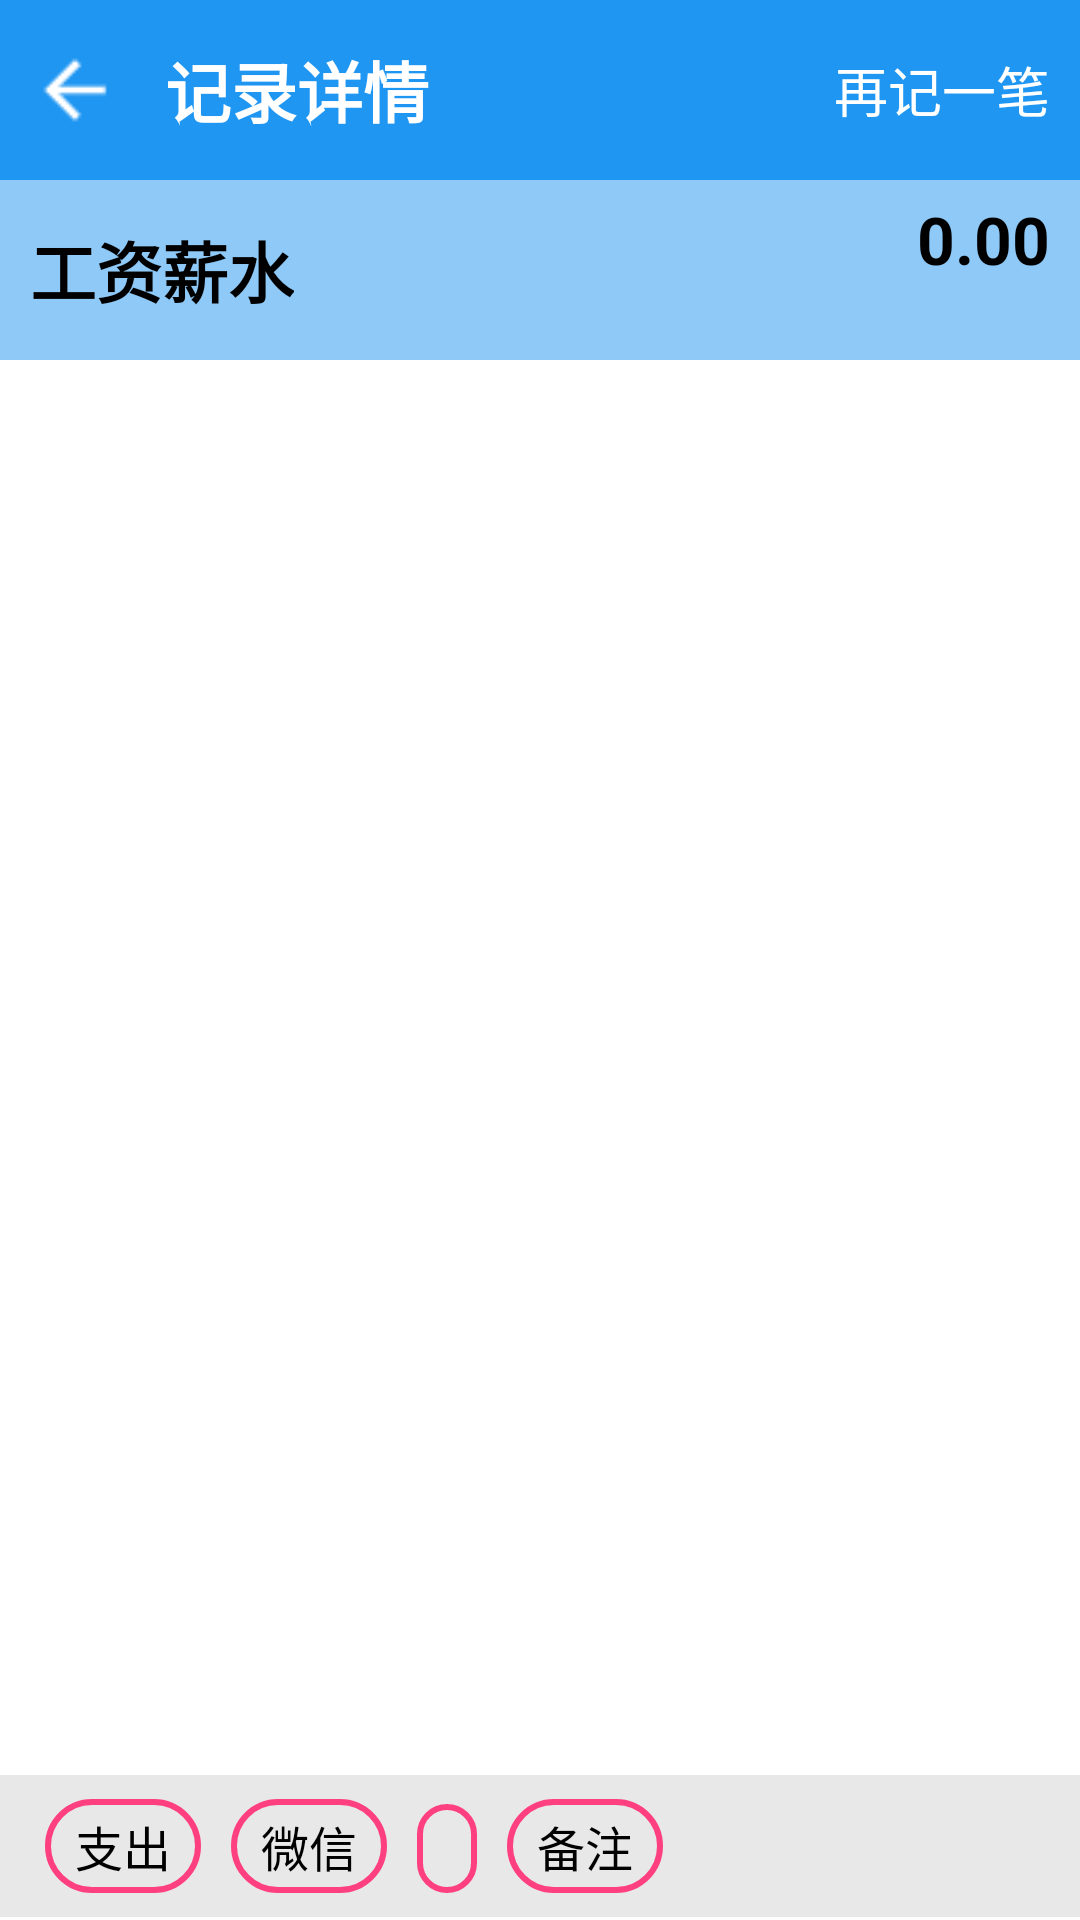

Where to tap for icons on this 1080px×1920px app screen, as (x,y):
arrow back android: (75,90)
